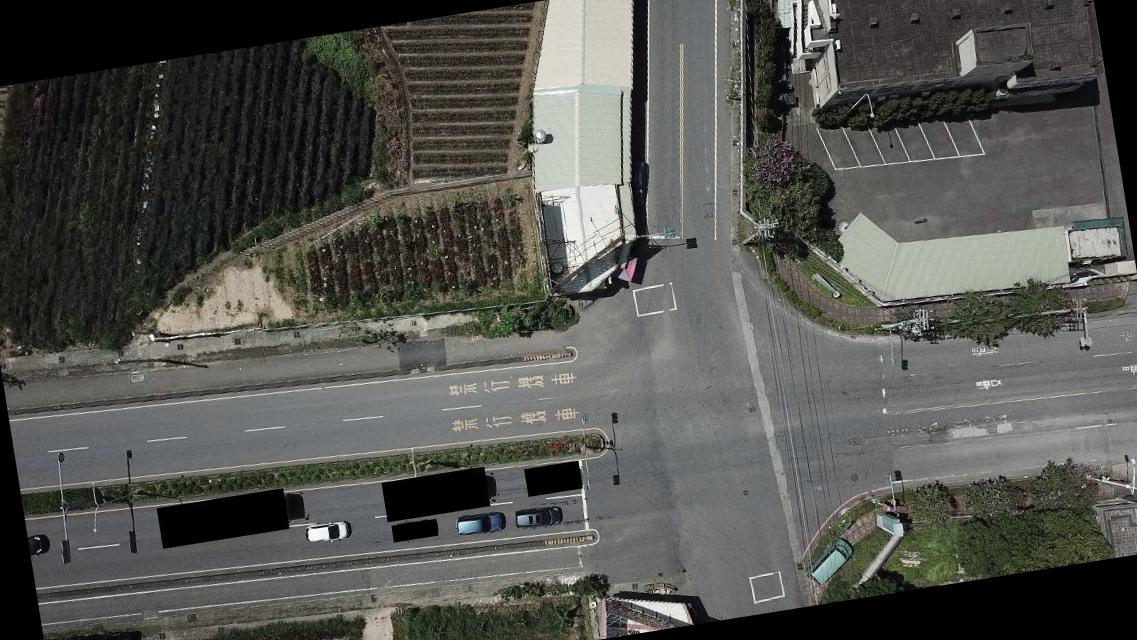vehicle: (802, 536, 856, 584), (510, 498, 564, 530), (454, 507, 505, 539), (302, 516, 352, 546), (28, 534, 45, 557)
